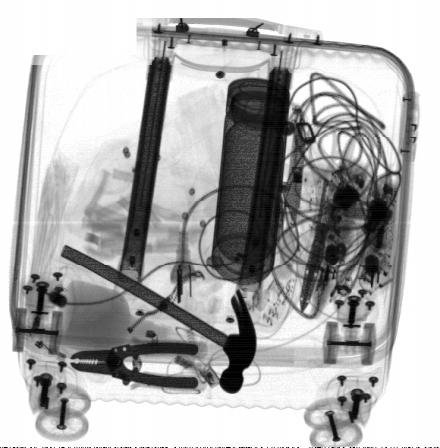Hammer: (61, 244, 257, 395)
Knife: (270, 118, 306, 283)
Pliers: (68, 341, 208, 392)
Scissors: (298, 118, 376, 313)
